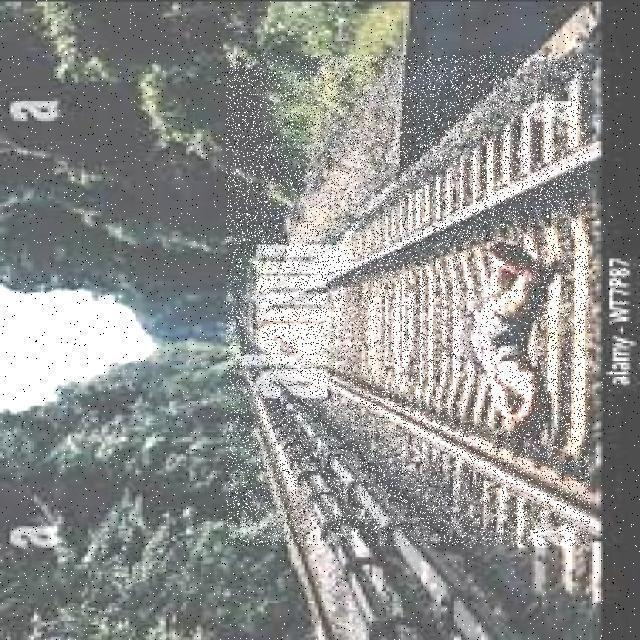rail: (228, 56, 591, 546)
